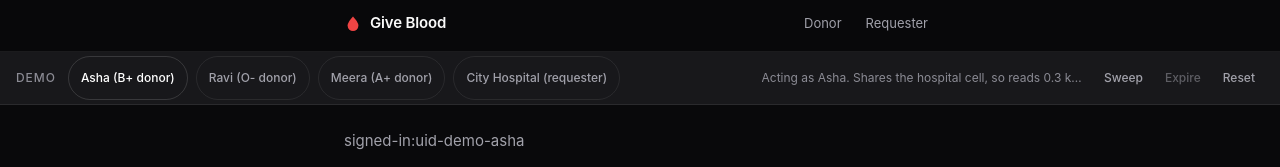
it: demo persona bar › spends its one status line on the last thing that happened
Click the button "Sweep" at [1123, 78], box [1095,64,1152,92]
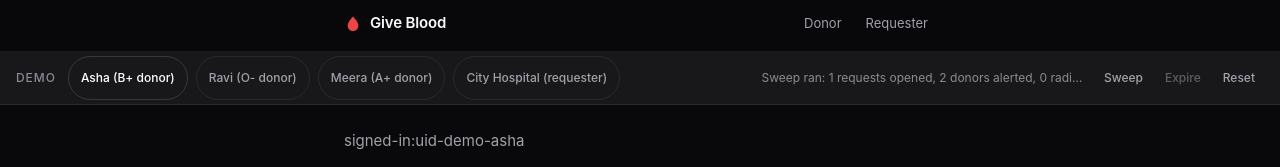
Expected: the text "2 donors alerted" is shown, [762,70,1236,85]
Expected: the text "Acting as Asha" is gone
Click the button "Ravi (O- donor)" at [253, 78], box [196,56,310,100]
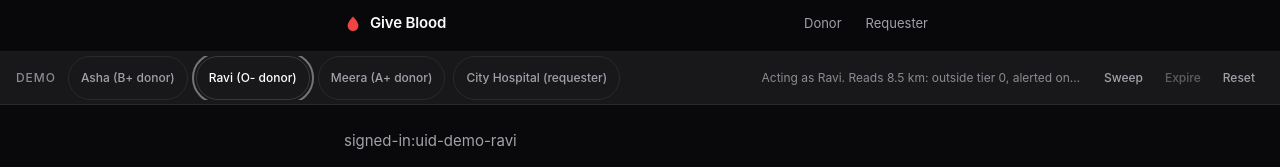
Expected: the text "Acting as Ravi" is shown, [762,70,1204,85]
